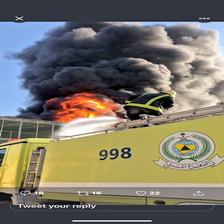fire: (16, 29, 121, 121)
